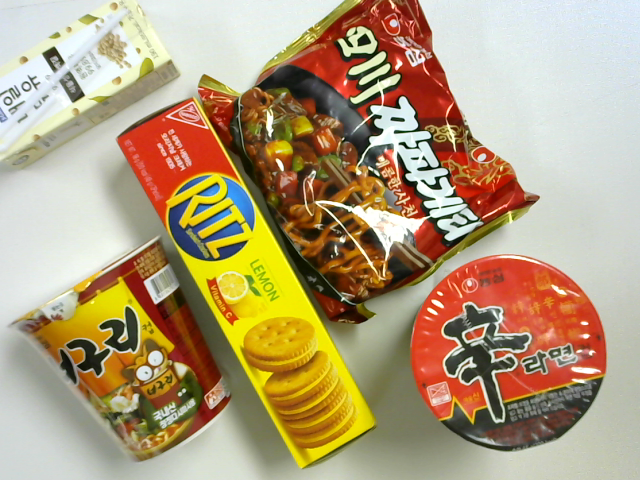99.89_Soymilk: (3, 4, 187, 182)
Raccoon: (13, 240, 237, 460)
Ritz_Remon_96g: (117, 104, 379, 464)
Sichuan_Chapaghetti: (203, 6, 535, 324)
Sinramen_small: (401, 254, 607, 452)
